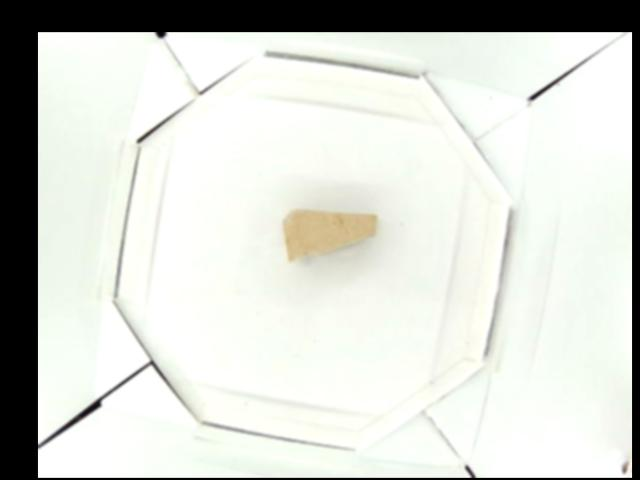China: (282, 214, 377, 262)
